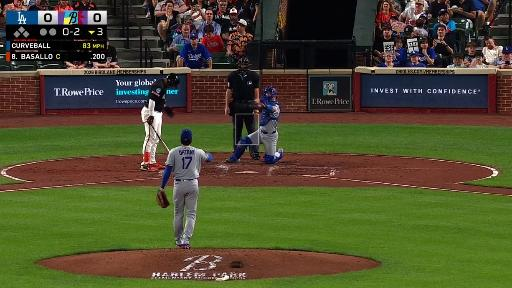pitcher: (156, 130, 213, 249)
